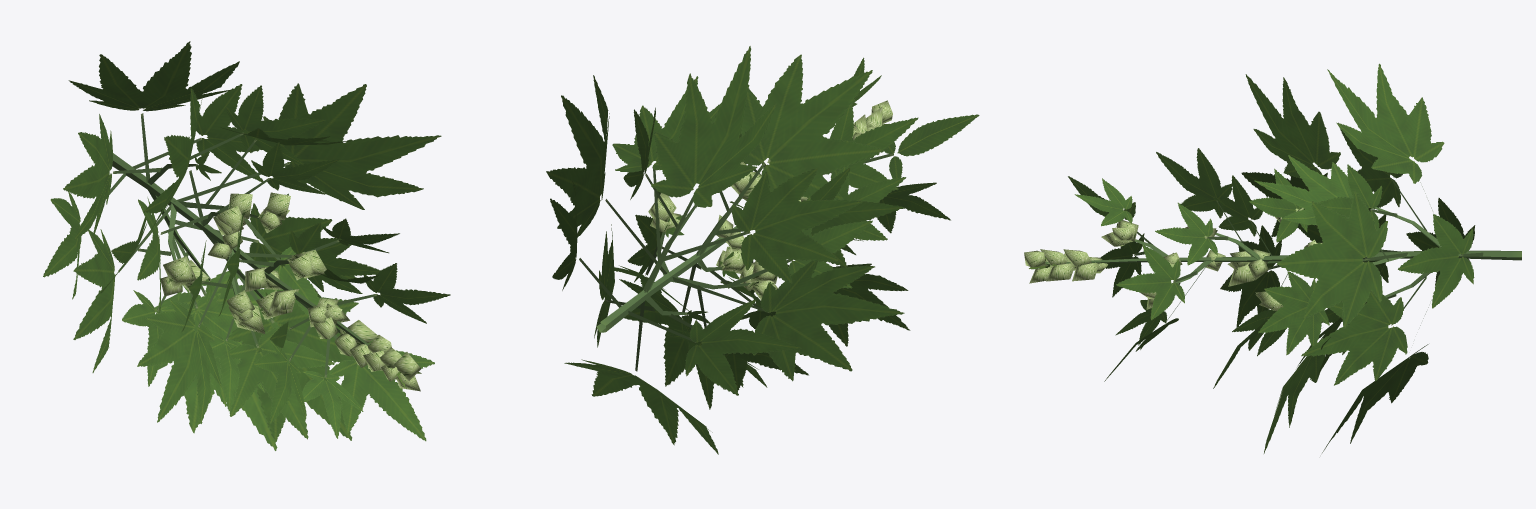
The model's file is p_male_hybrid_flowering_c0_cards.obj.
The picture shows the model from 3 angles, left to right: view 1: azimuth 30°, elevation 25°; view 2: azimuth 150°, elevation 25°; view 3: azimuth 270°, elevation 25°; orthographic projection. The views are drawn at different scales.
Size of the model in its own units: 1.44 by 1.56 by 1.74.
1 material, 1 textured.
